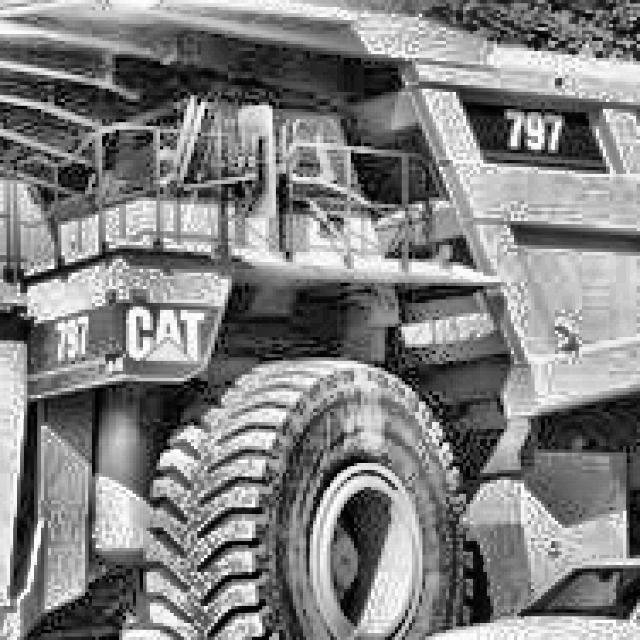dump_truck: (0, 0, 640, 640)
light_vehicle: (367, 524, 640, 639)
